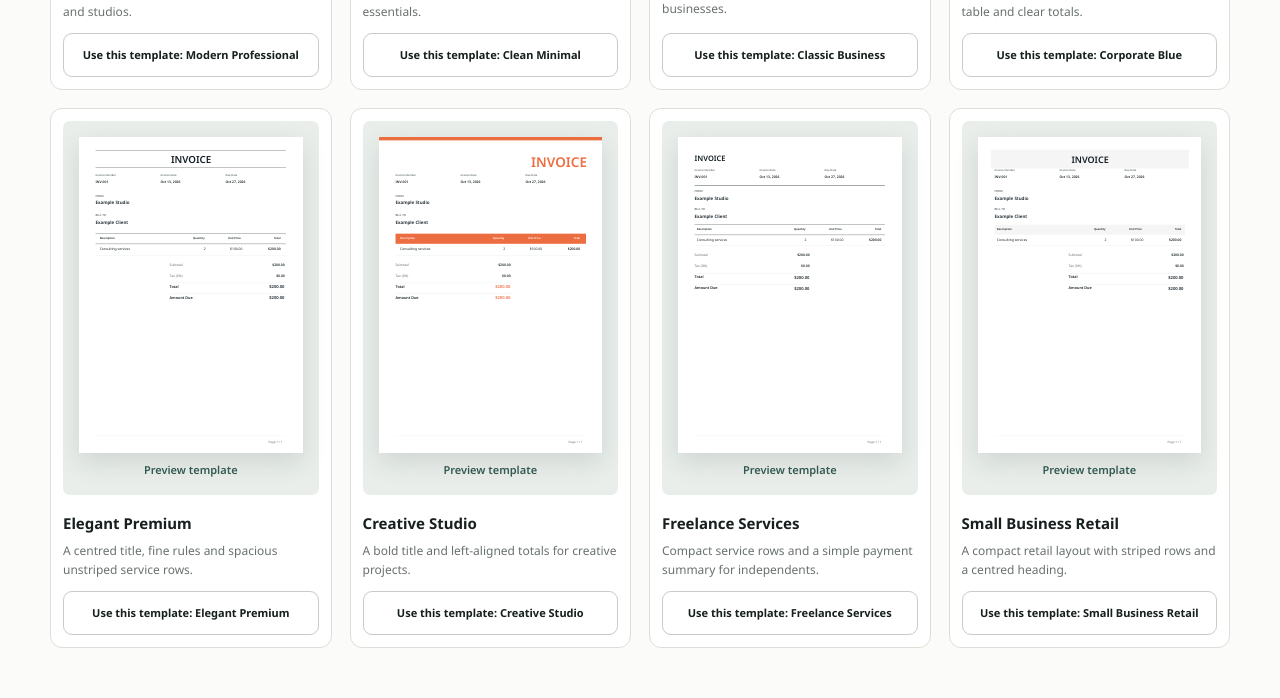
visual invoice workflow › selects creative before asking for personal details
(page scrolled)
Expected: the button "Business or full name" is not shown
Click the button "Use this template: Creative Studio" at (490, 613), box [362,591,618,635]
(page scrolled)
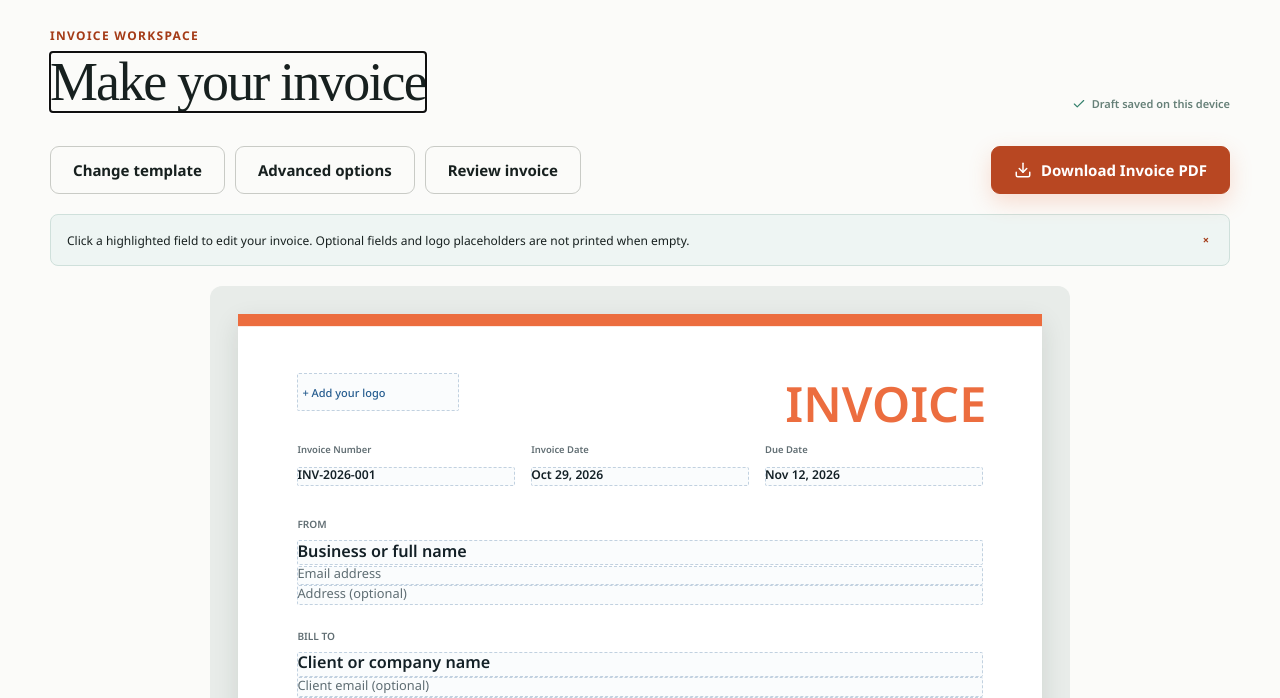
Result: the button named "Business or full name" is shown at [297,540,982,566]
